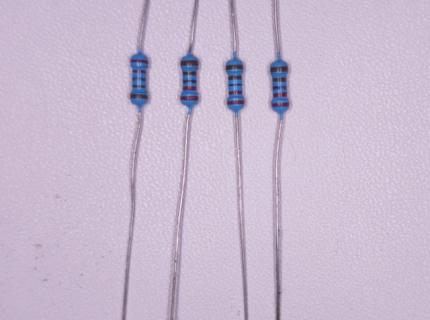Black band: (273, 85, 286, 90), (133, 76, 146, 81), (183, 79, 196, 83), (228, 83, 242, 86)
Brown band: (270, 66, 288, 72), (181, 60, 198, 66), (130, 94, 148, 99), (226, 65, 244, 70), (272, 77, 287, 82), (228, 75, 242, 80), (182, 71, 197, 75), (132, 85, 147, 88)
Red band: (130, 59, 148, 64), (271, 102, 289, 107), (227, 100, 244, 105), (180, 96, 199, 100), (228, 90, 242, 95), (273, 92, 287, 97), (132, 70, 146, 74), (183, 86, 197, 90)
